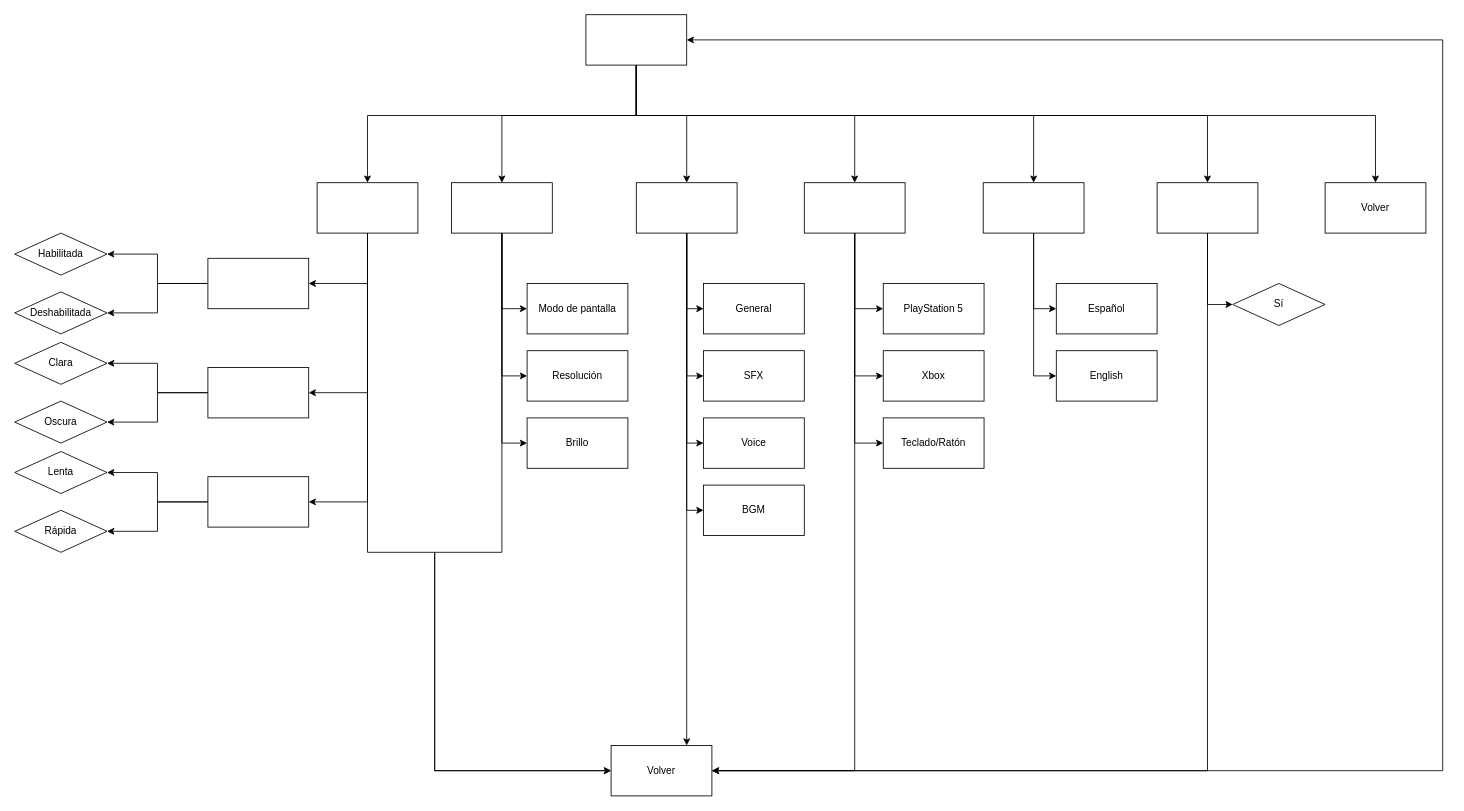
Image size: 1464x811. Some labels were removed from this diagram. The shapes that lost their labels are listed below. From the top down, each one's box as (x1, y1, x2, y2) in pixels, then its label:
(585, 14, 687, 65): Menú opciones
(316, 182, 418, 233): Opciones de texto
(451, 182, 552, 233): Gráficos
(635, 182, 737, 233): Audio
(803, 182, 905, 233): Teclado/Mando
(982, 182, 1084, 233): Idioma
(1156, 182, 1258, 233): Restaurar valores
(207, 257, 309, 309): Reproducción automática
(207, 367, 309, 418): Ventana de texto
(207, 476, 309, 527): Velocidad del texto
